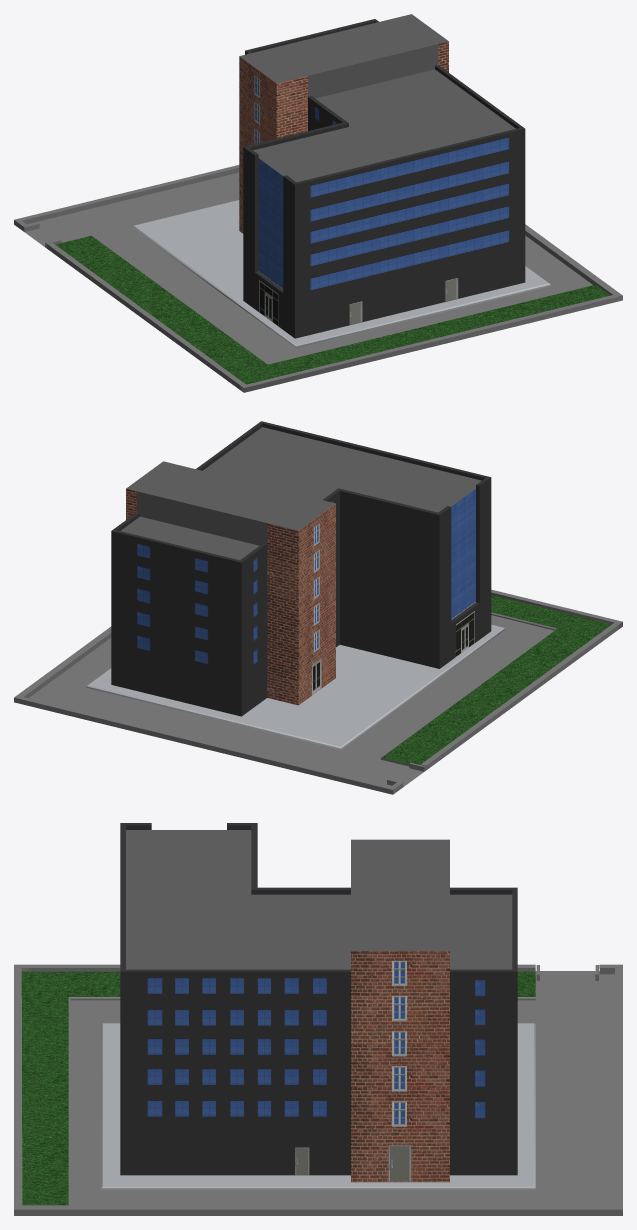
File: officeBlockMoreAnims.glb
3 views of the same model, one above another, from view 1: azimuth 30°, elevation 25°; view 2: azimuth 150°, elevation 25°; view 3: azimuth 270°, elevation 25° (orthographic). The views are drawn at different scales.
Visible parts, largest first — view 1: officeGround, officeFace04, officeFace05, officeFace01; view 2: officeGround, officeFace01, officeFace05, officeFace02; view 3: officeFace03, officeGround, officeFace05.
Boxes of the visible parts, left/top/right/bottom form: officeGround: left=14, top=165, right=622, bottom=392; officeFace04: left=295, top=129, right=525, bottom=338; officeFace05: left=239, top=14, right=524, bottom=184; officeFace01: left=239, top=51, right=342, bottom=338; officeGround: left=14, top=589, right=622, bottom=794; officeFace01: left=241, top=478, right=491, bottom=715; officeFace05: left=111, top=421, right=490, bottom=562; officeFace02: left=111, top=531, right=241, bottom=716; officeFace03: left=120, top=951, right=517, bottom=1182; officeGround: left=14, top=964, right=622, bottom=1215; officeFace05: left=120, top=823, right=517, bottom=971.
Size of the model in its own units: 54.29 by 24.27 by 57.05.
Materials: 2 (2 with a texture image).
